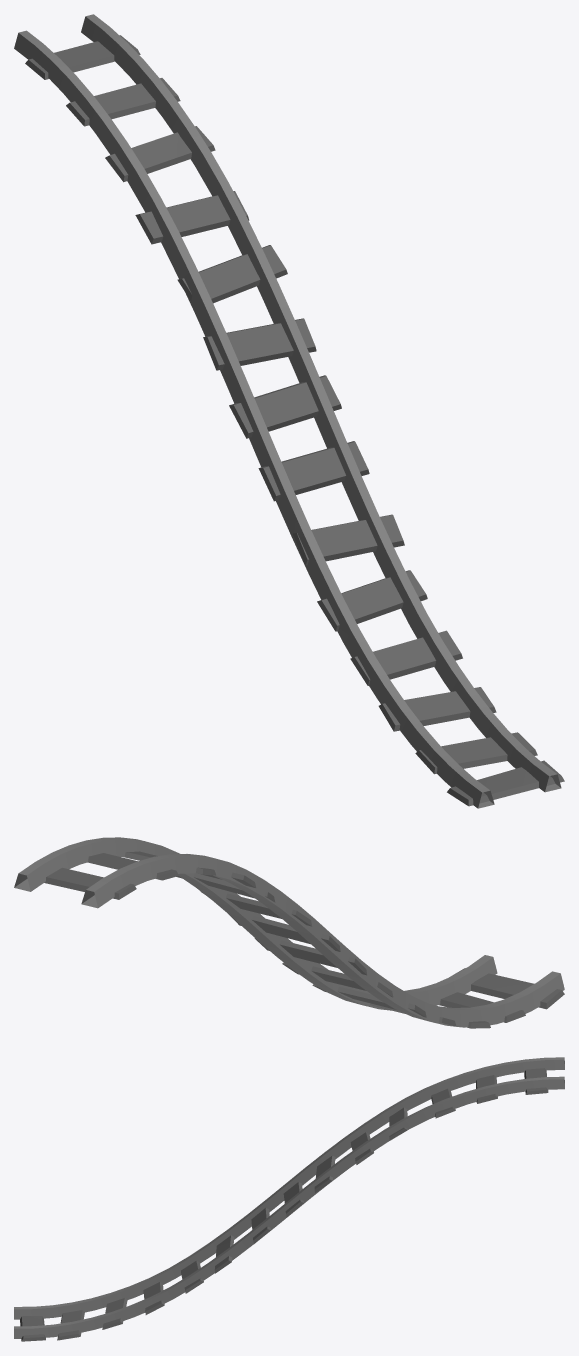
File: Ray_Straight_02.fbx
The picture shows the model from 3 angles, top to bottom: view 1: azimuth 30°, elevation 25°; view 2: azimuth 150°, elevation 25°; view 3: azimuth 270°, elevation 25°; orthographic projection. The views are drawn at different scales.
Parts seen in each view (by area): view 1: Ray_Straight_02; view 2: Ray_Straight_02; view 3: Ray_Straight_02.
Boxes of the visible parts, x1,y1,x2,y2 form: Ray_Straight_02: [14, 14, 564, 808]; Ray_Straight_02: [14, 837, 564, 1028]; Ray_Straight_02: [14, 1057, 564, 1341].
Bounding box in the file's own units: 647 × 2451 × 4732.
